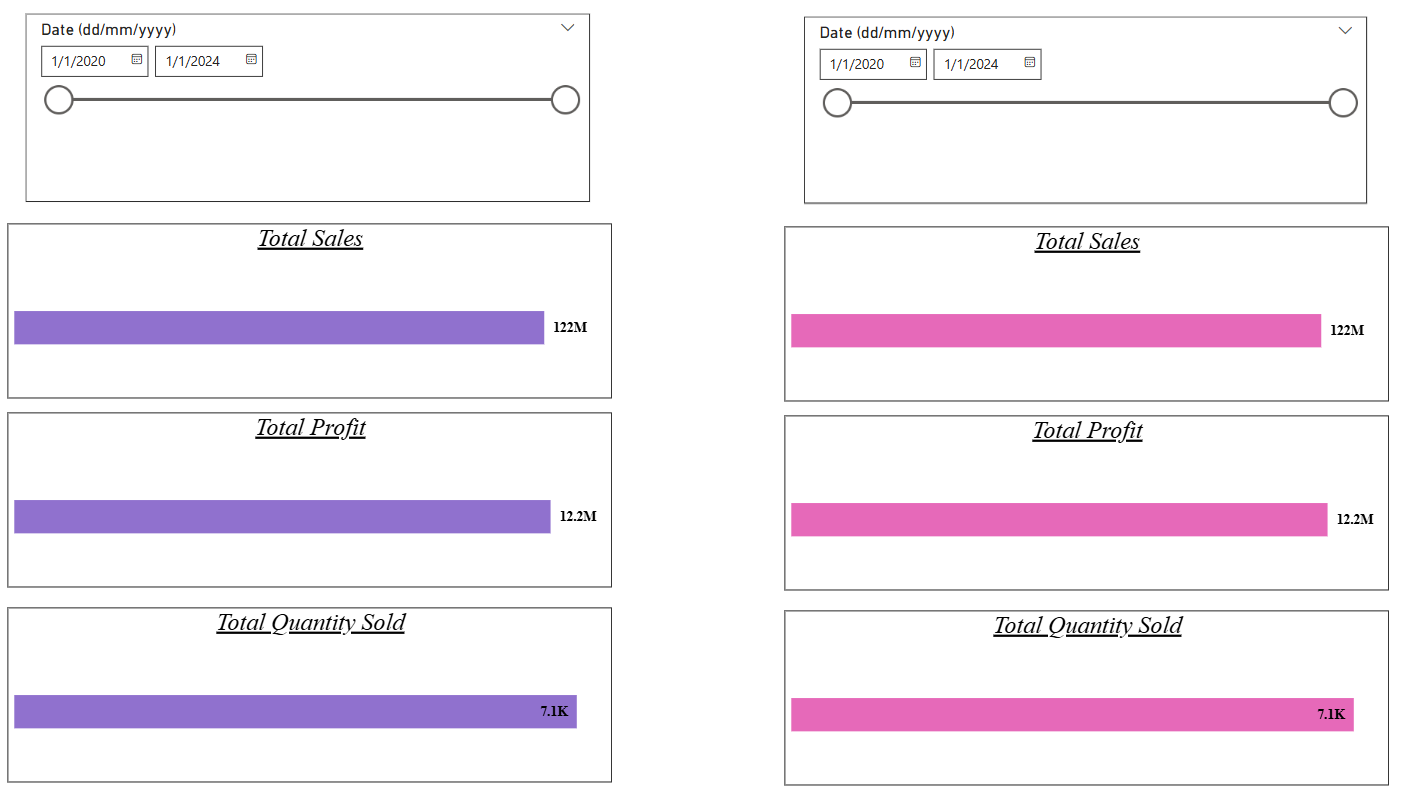

What the dashboard file says about the page in this screenshot:
{"tool":"powerbi","page":{"name":"Edit Interactions","canvas":[1280,720],"ordinal":3},"visuals":[{"type":"slicer","fields":{"Values":["Fact Table.Date (dd/mm/yyyy)"]},"box":[43.5,20.2,499,166.3],"z":0},{"type":"slicer","fields":{"Values":["Fact Table.Date (dd/mm/yyyy)"]},"box":[732.4,22.4,498.2,165.6],"z":1000},{"type":"barChart","title":"Total Sales","fields":{"Y":["Sum(Fact Table.Net Sales)"]},"box":[27.3,205.9,534.5,154.4],"z":2000},{"type":"barChart","title":"Total Profit","fields":{"Y":["Sum(Fact Table.Profit)"]},"box":[27.3,372.5,534.5,154.4],"z":3000},{"type":"barChart","title":"Total Quantity Sold","fields":{"Y":["Sum(Fact Table.Units Sold)"]},"box":[27.3,545.1,534.5,154.4],"z":4000},{"type":"barChart","title":"Total Sales","fields":{"Y":["Sum(Fact Table.Net Sales)"]},"box":[714.6,208.9,534.5,154.4],"z":5000},{"type":"barChart","title":"Total Profit","fields":{"Y":["Sum(Fact Table.Profit)"]},"box":[714.6,375.4,534.5,154.4],"z":6000},{"type":"barChart","title":"Total Quantity Sold","fields":{"Y":["Sum(Fact Table.Units Sold)"]},"box":[714.7,548.1,534.5,154.4],"z":7000}]}

Visuals, with their boxes in screenshot pixels (x1, y1, x2, y2), scaled from the page's 1280x720 canvas onto the 1401x790 screenshot:
slicer - Fact Table.Date (dd/mm/yyyy): rect(48, 22, 594, 205)
slicer - Fact Table.Date (dd/mm/yyyy): rect(802, 25, 1347, 206)
"Total Sales" barChart: rect(30, 226, 615, 395)
"Total Profit" barChart: rect(30, 409, 615, 578)
"Total Quantity Sold" barChart: rect(30, 598, 615, 768)
"Total Sales" barChart: rect(782, 229, 1367, 399)
"Total Profit" barChart: rect(782, 412, 1367, 581)
"Total Quantity Sold" barChart: rect(782, 601, 1367, 771)
